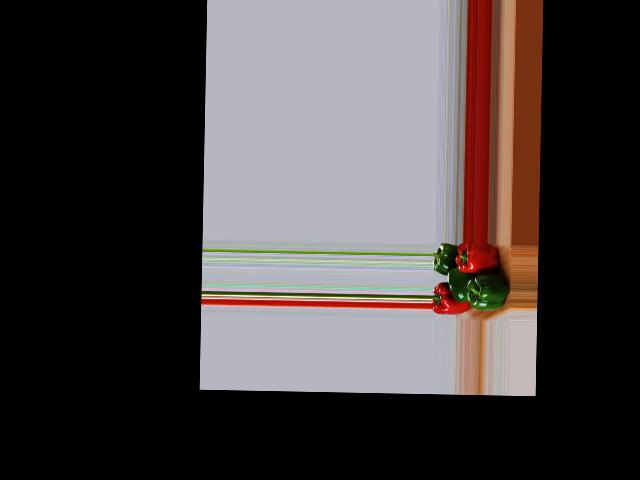bell_pepper: (456, 243, 503, 275)
